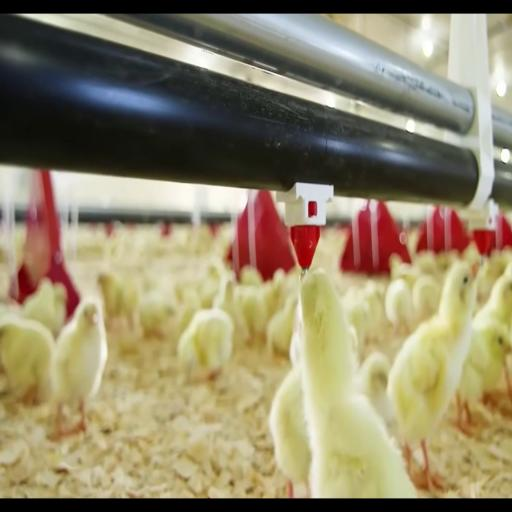chick: (300, 270, 416, 498), (388, 262, 476, 488), (51, 298, 107, 438), (456, 320, 510, 434), (270, 365, 310, 498), (0, 314, 54, 404), (178, 309, 234, 379), (357, 352, 393, 428), (23, 278, 67, 336), (214, 275, 249, 345), (98, 272, 138, 327), (474, 274, 511, 328), (474, 275, 511, 325), (267, 296, 298, 355), (138, 290, 175, 338), (237, 285, 267, 341), (385, 279, 413, 333), (344, 299, 370, 357), (199, 259, 226, 308), (412, 275, 441, 320), (364, 281, 385, 339), (178, 285, 200, 335), (263, 269, 285, 318), (389, 254, 420, 288), (477, 259, 500, 301), (290, 304, 301, 365), (414, 251, 437, 275), (240, 266, 263, 286), (462, 242, 481, 265), (504, 263, 511, 276)
